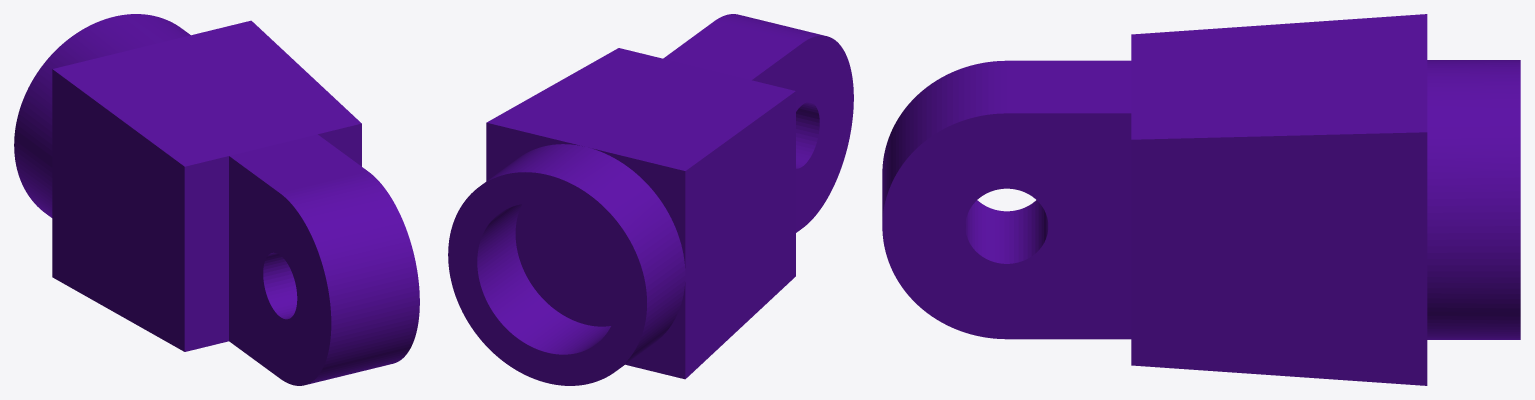
3 views of the same model, side by side, from view 1: azimuth 30°, elevation 25°; view 2: azimuth 150°, elevation 25°; view 3: azimuth 270°, elevation 25° (orthographic). The views are drawn at different scales.
Parts seen in each view (by area): view 1: node; view 2: node; view 3: node.
Part boxes in pixels (x1,y1,x2,y2): node: [14, 14, 419, 385]; node: [448, 14, 853, 385]; node: [882, 14, 1520, 385].
Size of the model in its own units: 0.0569 by 0.0569 by 0.1298.
